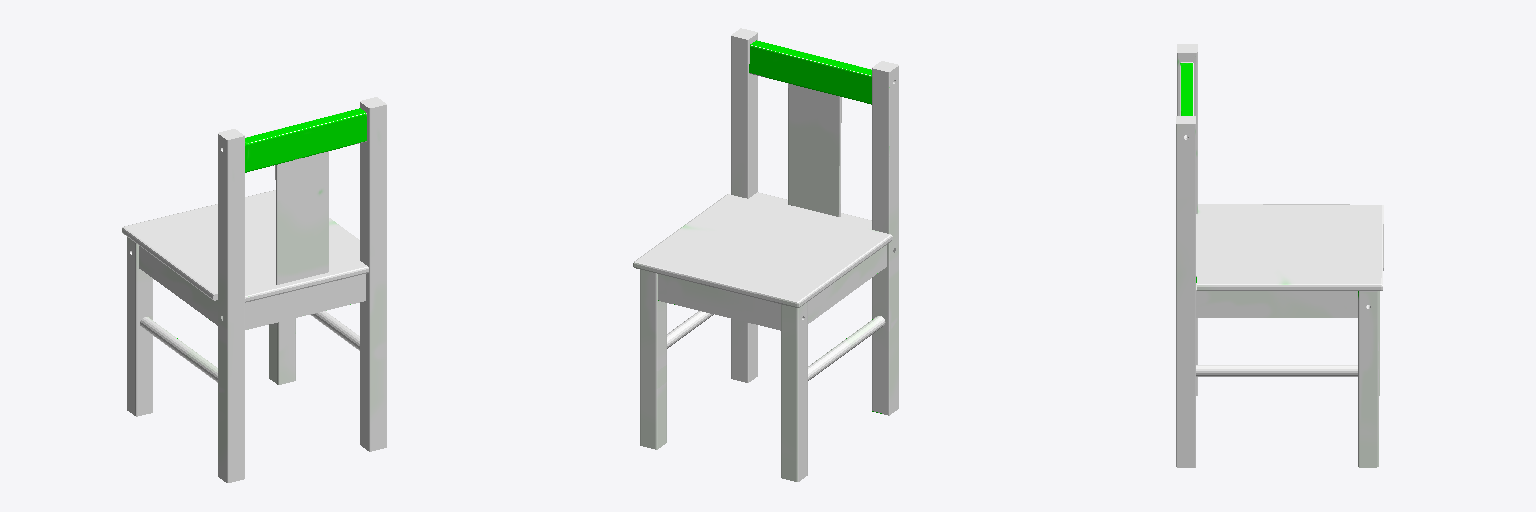
3 renders of one model, left to right at view 1: azimuth 30°, elevation 25°; view 2: azimuth 150°, elevation 25°; view 3: azimuth 270°, elevation 25°, orthographic.
Visible parts, largest first — view 1: left_bakben; view 2: left_bakben; view 3: left_bakben.
Part boxes in pixels (x1,y1,x2,y2): left_bakben: (122, 97, 386, 482); left_bakben: (633, 28, 898, 481); left_bakben: (1176, 44, 1383, 467).
Bounding box in the file's own units: 10.68 × 21.09 × 11.52.
1 materials, 1 textured.